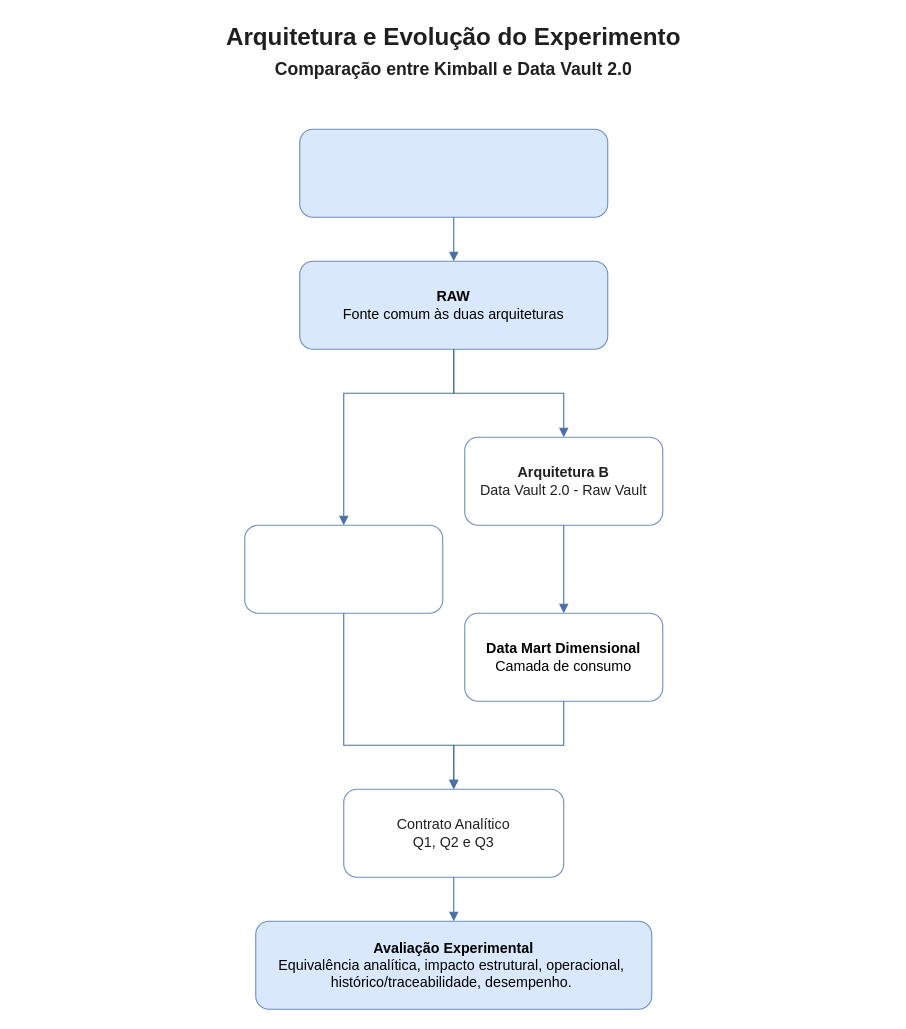
The diagram is 906 pixels wide and 1029 high, and some of its shapes have lost their labels. The shapes that lost their labels are listed below. From the top down, each one's centre as x and y in pixels, then its label:
At (453,172): "Fonte de Dados Dataset Olist CSV".
At (343,568): "Arquitetura A Kimball dimensional".
